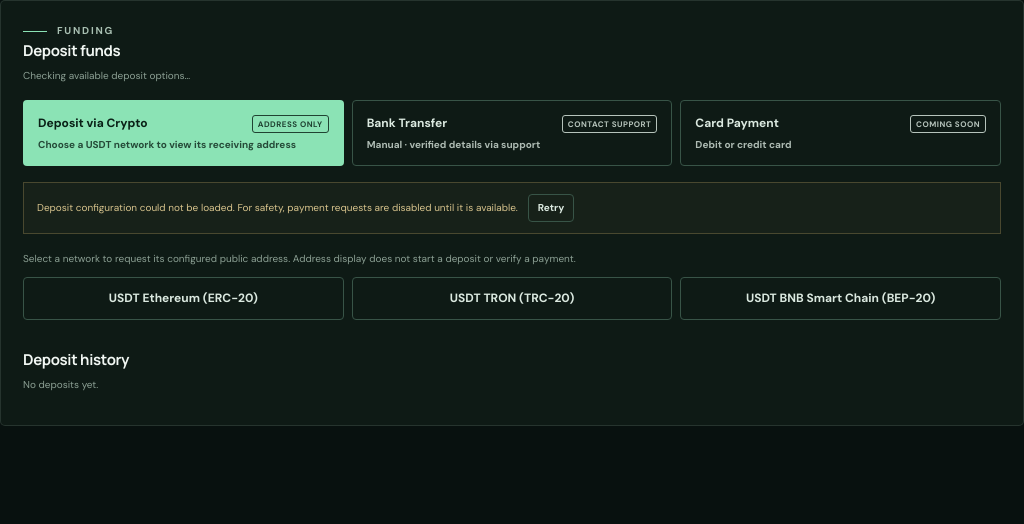
Scenario: crypto network selection › rejects malformed USDT BNB Smart Chain (BEP-20) addresses before display or QR generation
Click the button "USDT BNB Smart Chain (BEP-20)" at [841, 299], box [680,277,1001,320]
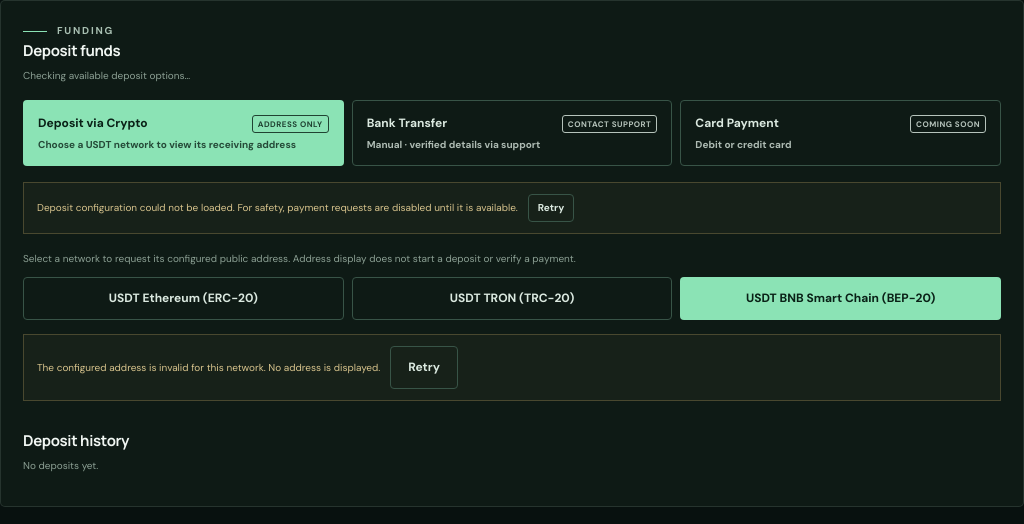
Now the text "configured address is invalid for this network" is shown, box [37,361,380,374]
